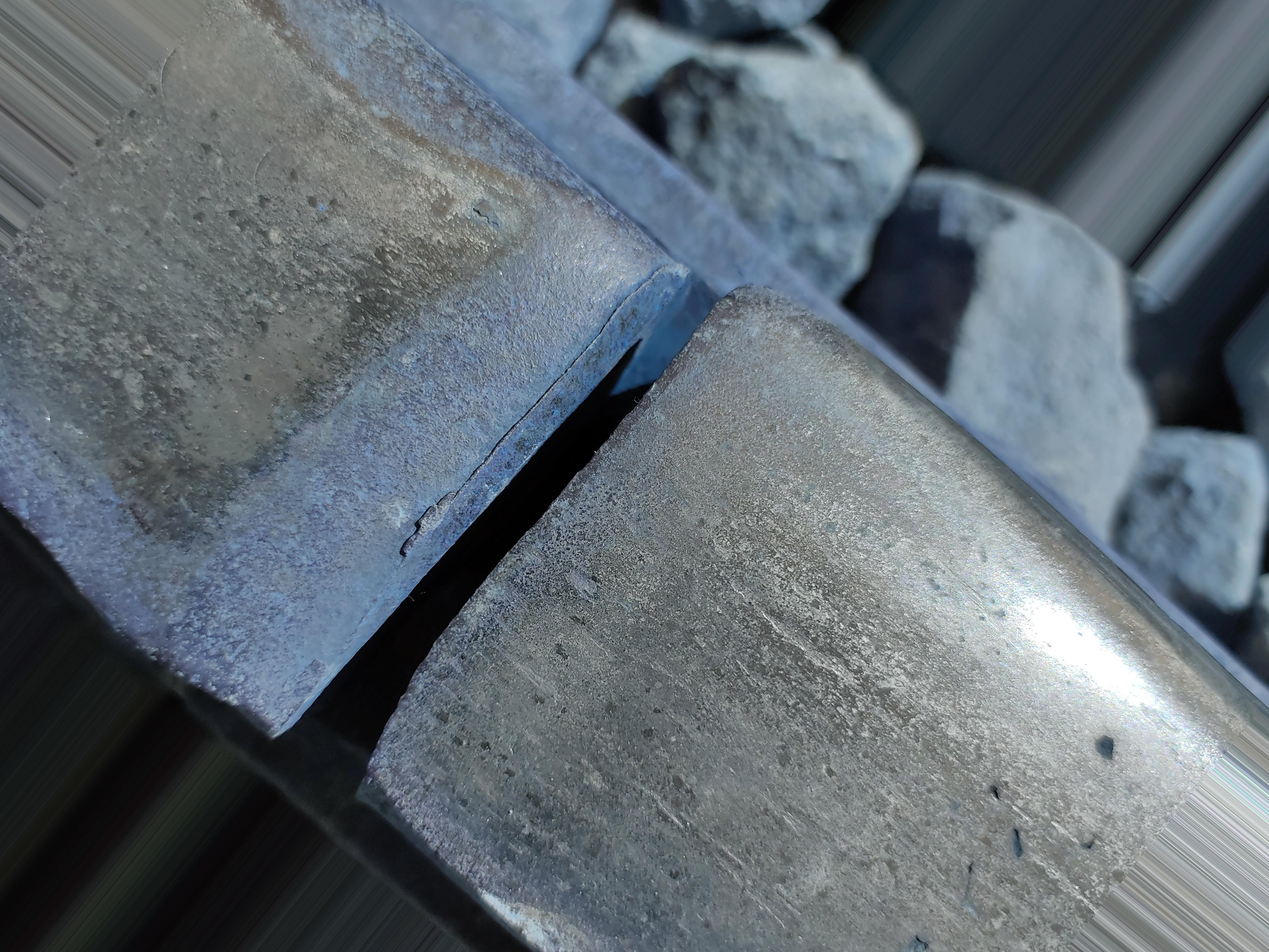tracks_fault: (51, 65, 609, 704)
